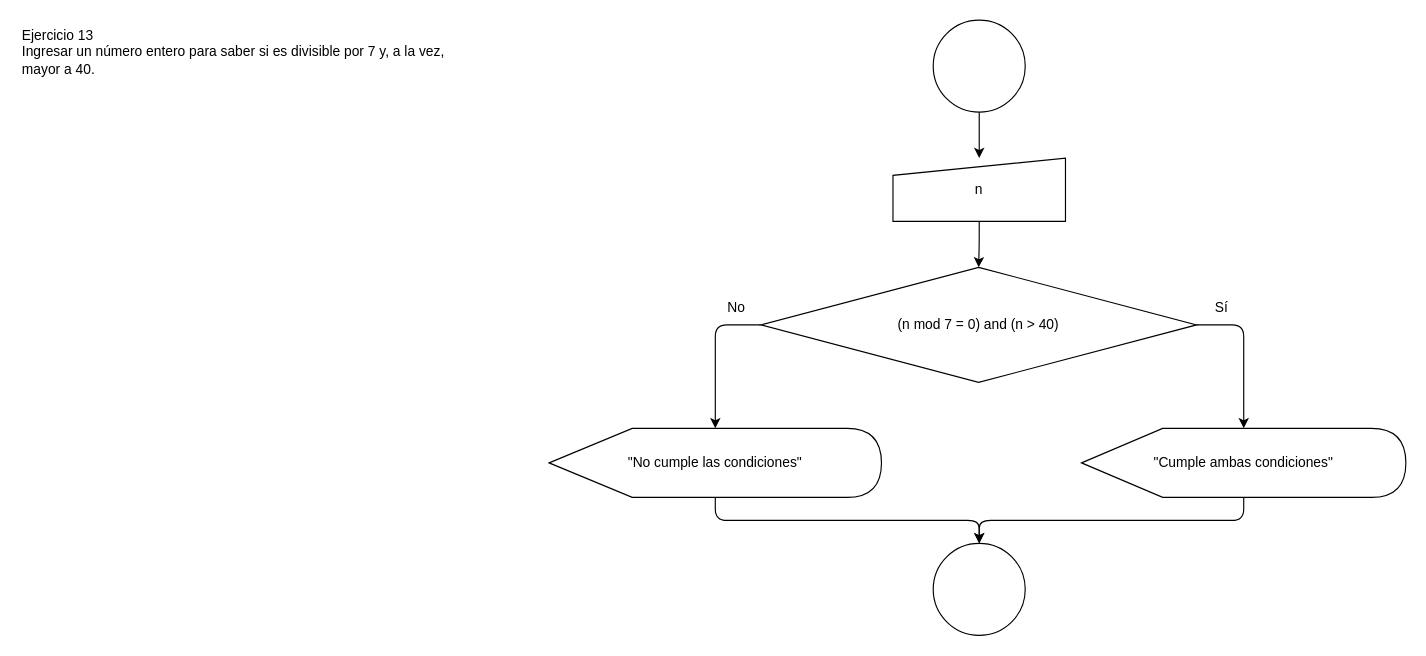
Some shapes in this 1426 by 656 pixel diagram are drawn without their labels. Here are the shapes that lost their labels. From the top down, the centre of each, then its label:
At (978,65): "Inicio".
At (978,588): "Fin".
